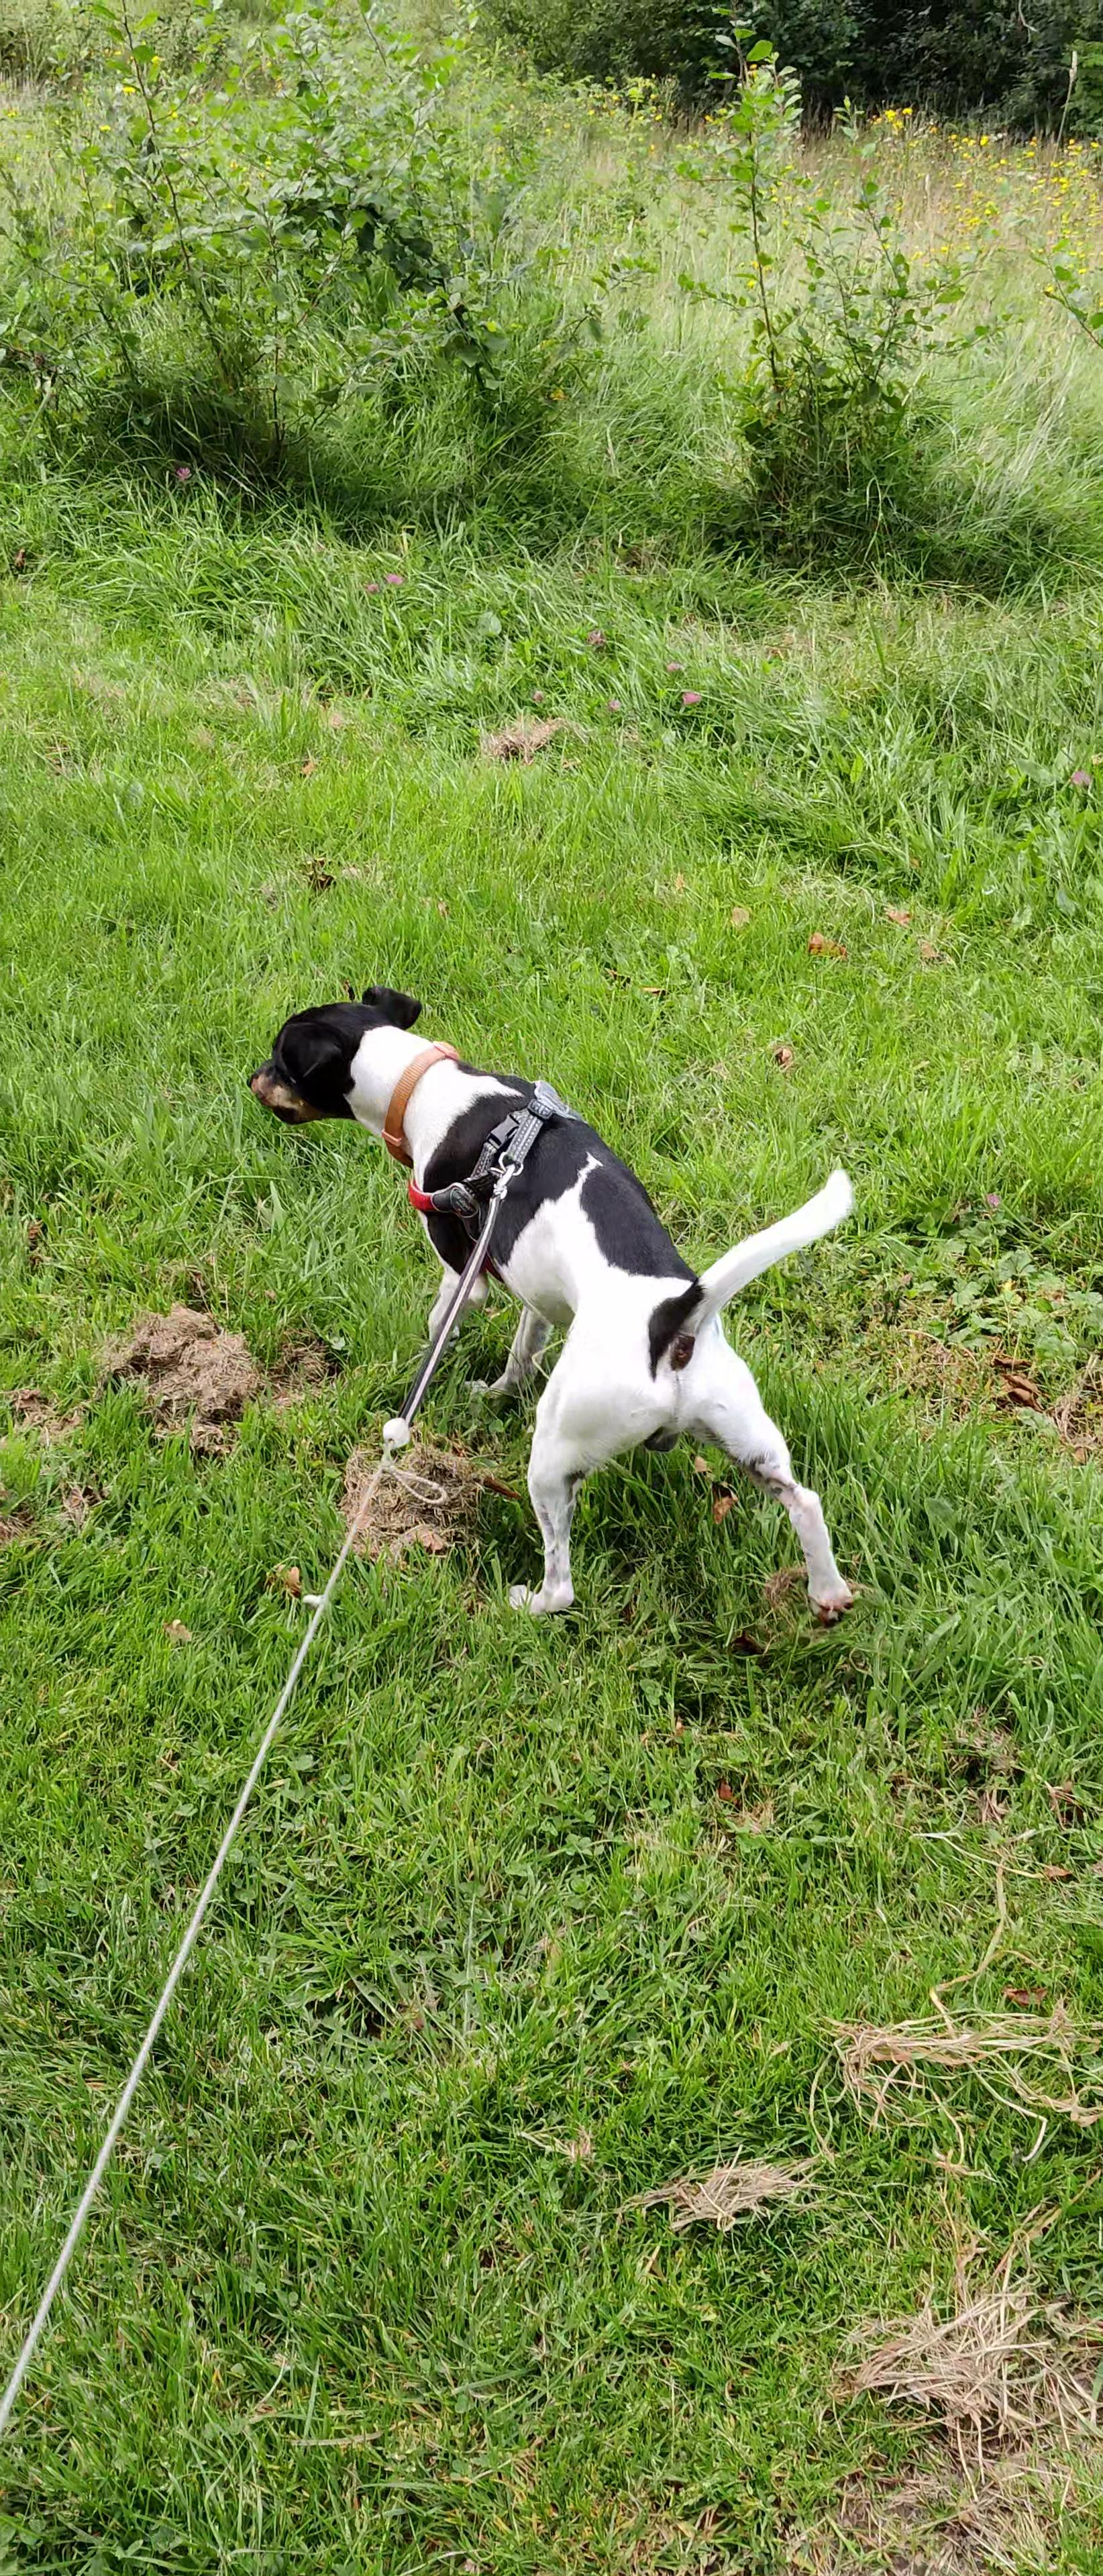Dog: (232, 959, 896, 1628)
